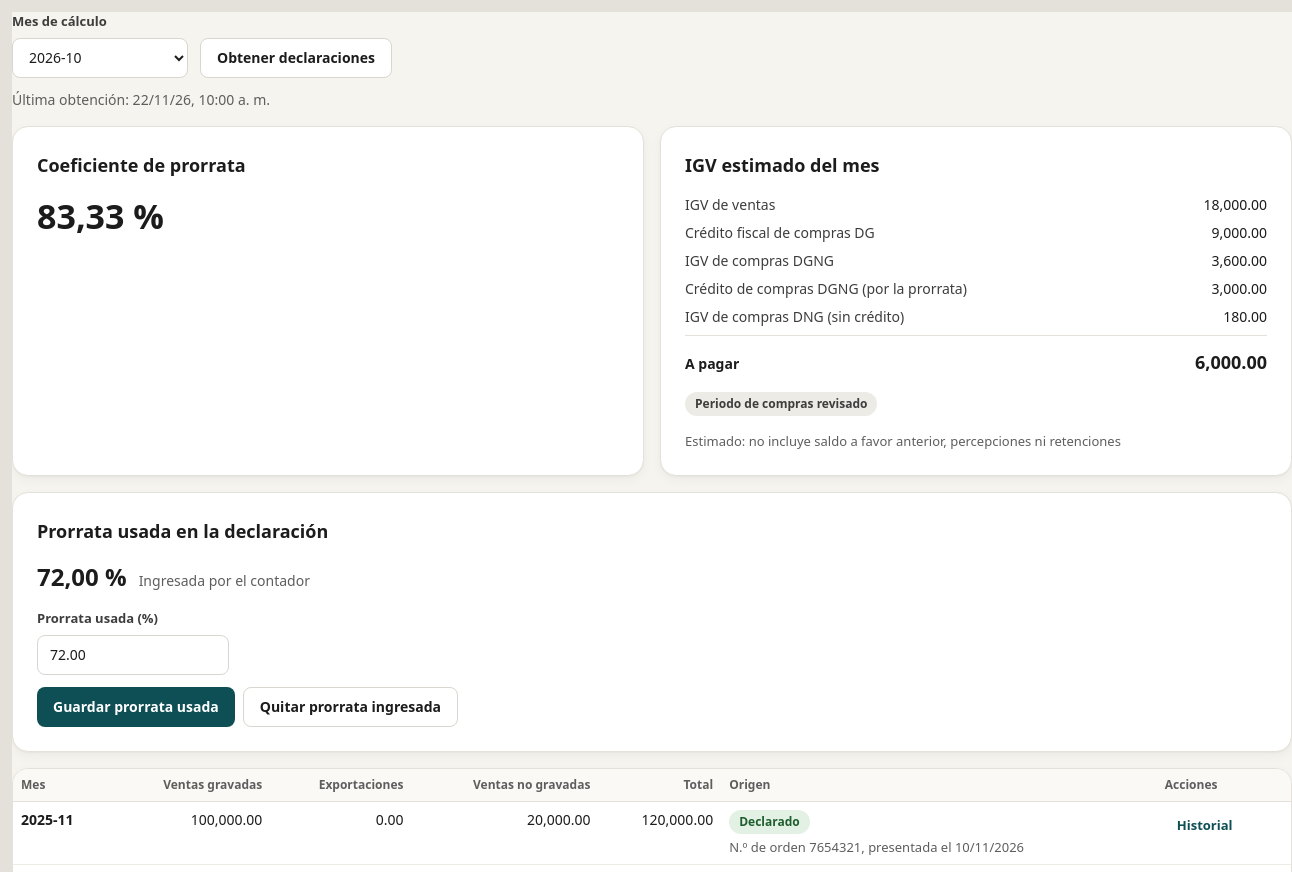
Test: D-2: 409 en la tarjeta de prorrata usada › aviso propio de la tarjeta (no el del diálogo de meses) y relee el valor vigente
Replace the text in the field labelled "Prorrata usada (%)" with "71" at (133, 654), box [37, 634, 229, 674]
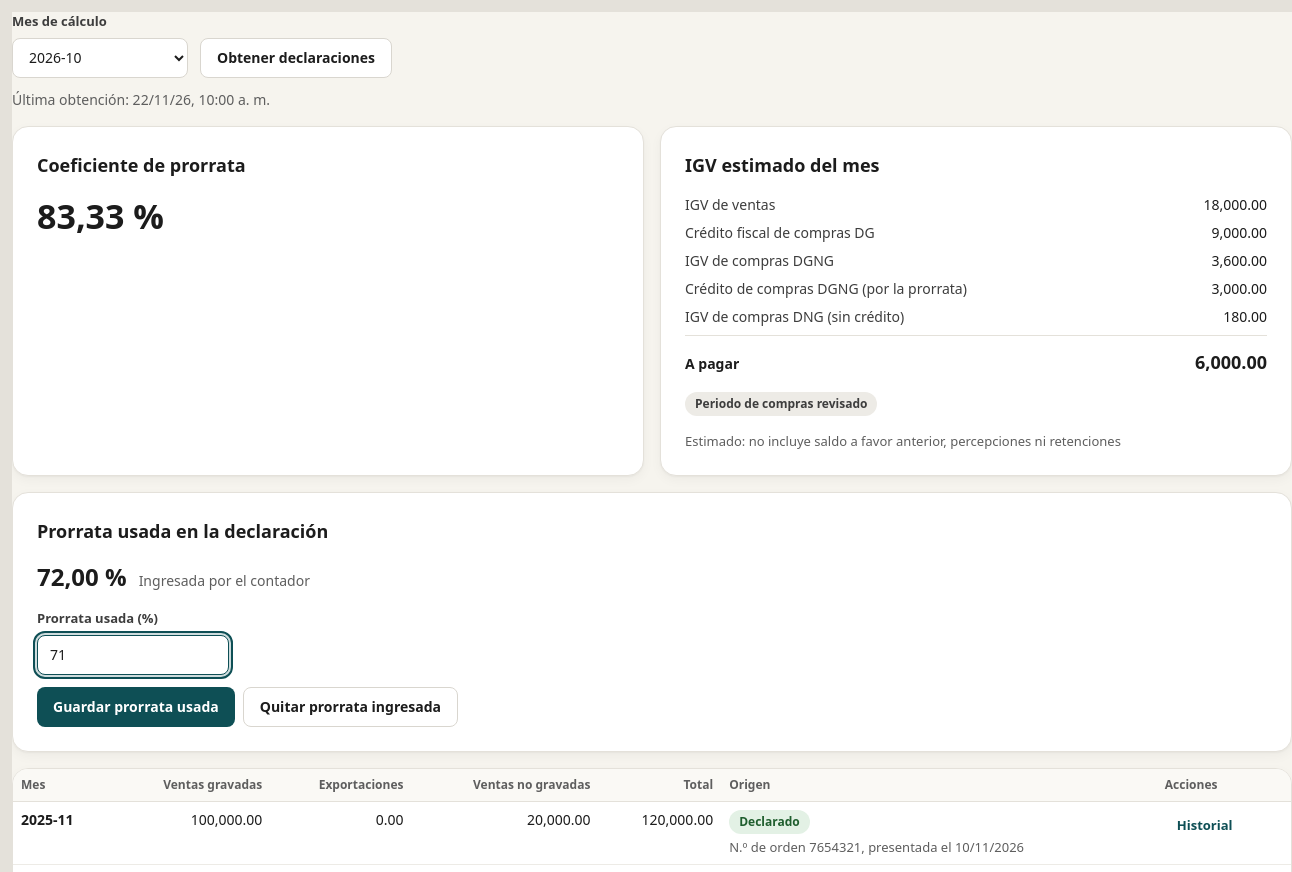
Click the button "Guardar prorrata usada" at (136, 706), box [37, 686, 235, 726]
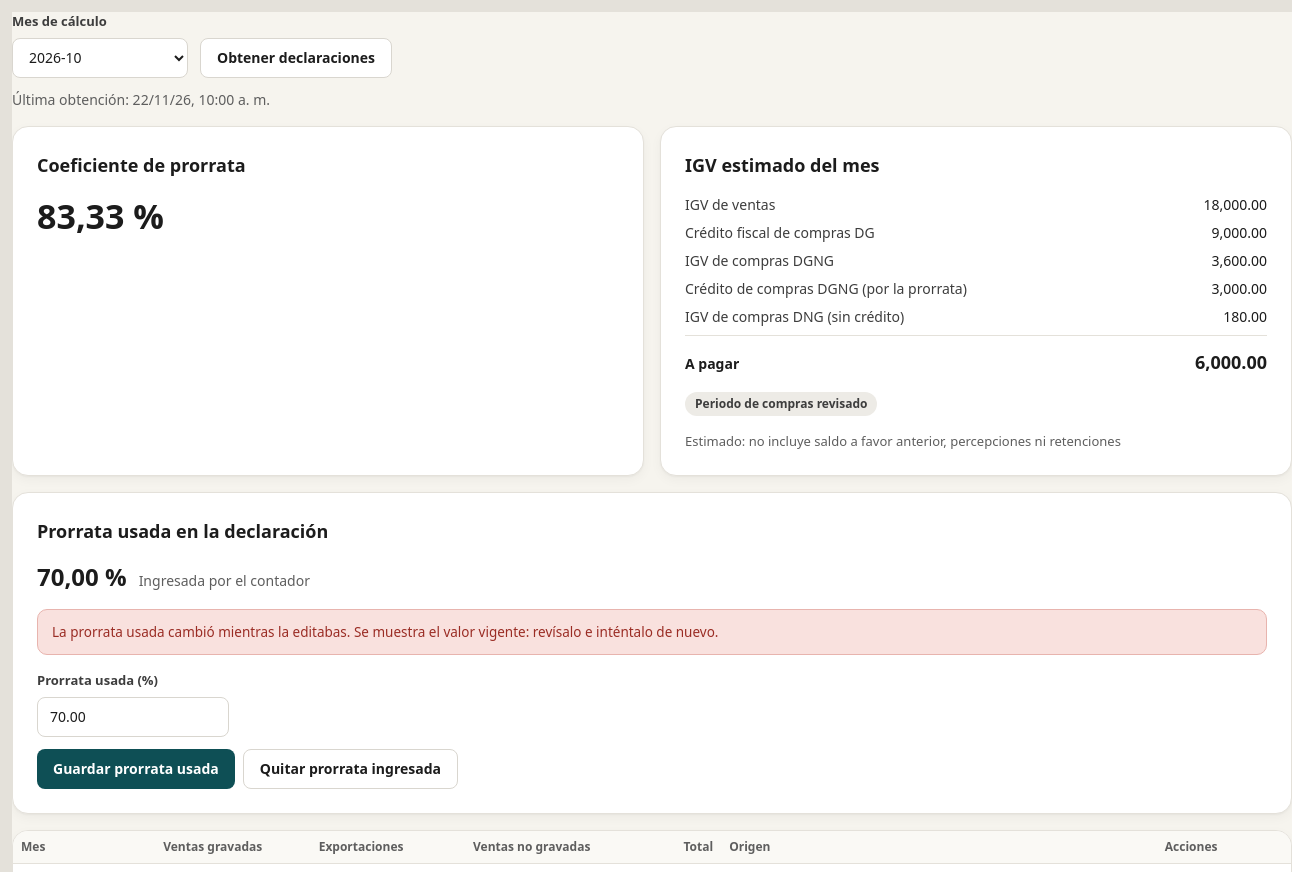
expect the text "70,00 %" is shown: met, box [37, 561, 127, 593]
expect the field labelled "Prorrata usada (%)" holds "70.00": met, box [37, 697, 229, 737]
expect the message shows "La prorrata usada cambió mientras la editabas. Se muestra el valor vigente: revísalo e inténtalo de nuevo.": met, box [52, 623, 718, 641]
